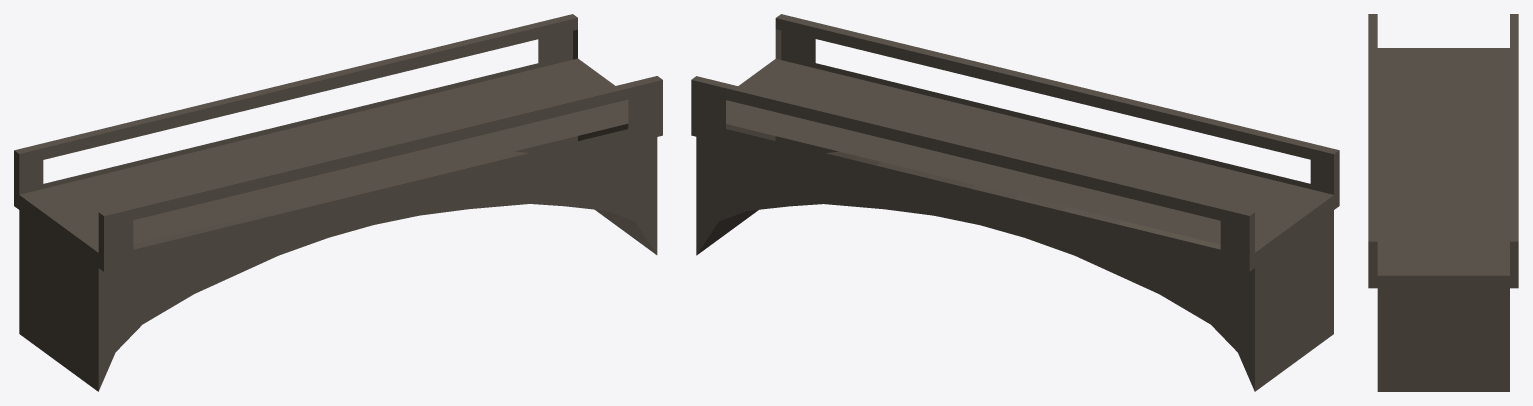
Rendered from brug.fbx.
3 renders of one model, left to right at view 1: azimuth 30°, elevation 25°; view 2: azimuth 150°, elevation 25°; view 3: azimuth 270°, elevation 25°, orthographic. The views are drawn at different scales.
Visible parts, largest first — view 1: Plane; view 2: Plane; view 3: Plane.
Boxes of the visible parts, <box> form: Plane: <box>14,14,662,391</box>; Plane: <box>691,14,1339,391</box>; Plane: <box>1368,14,1518,391</box>.
Bounding box in the file's own units: 343 × 106 × 95.78.
